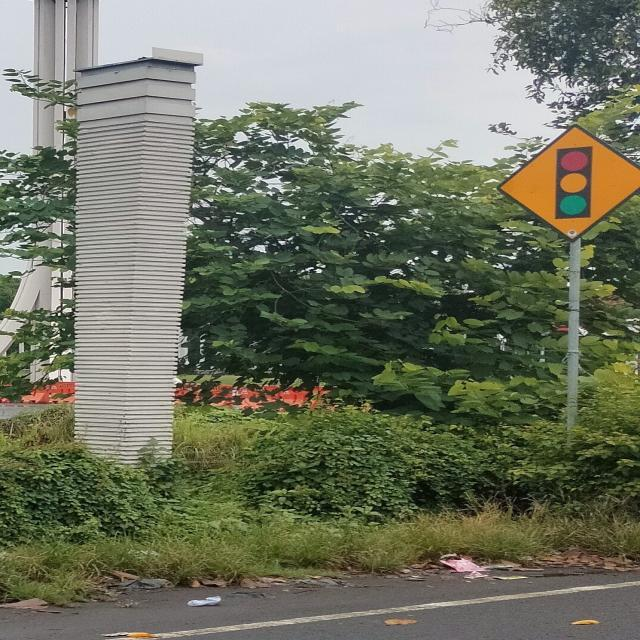Lampu Lalu Lintas: (496, 122, 640, 242)
